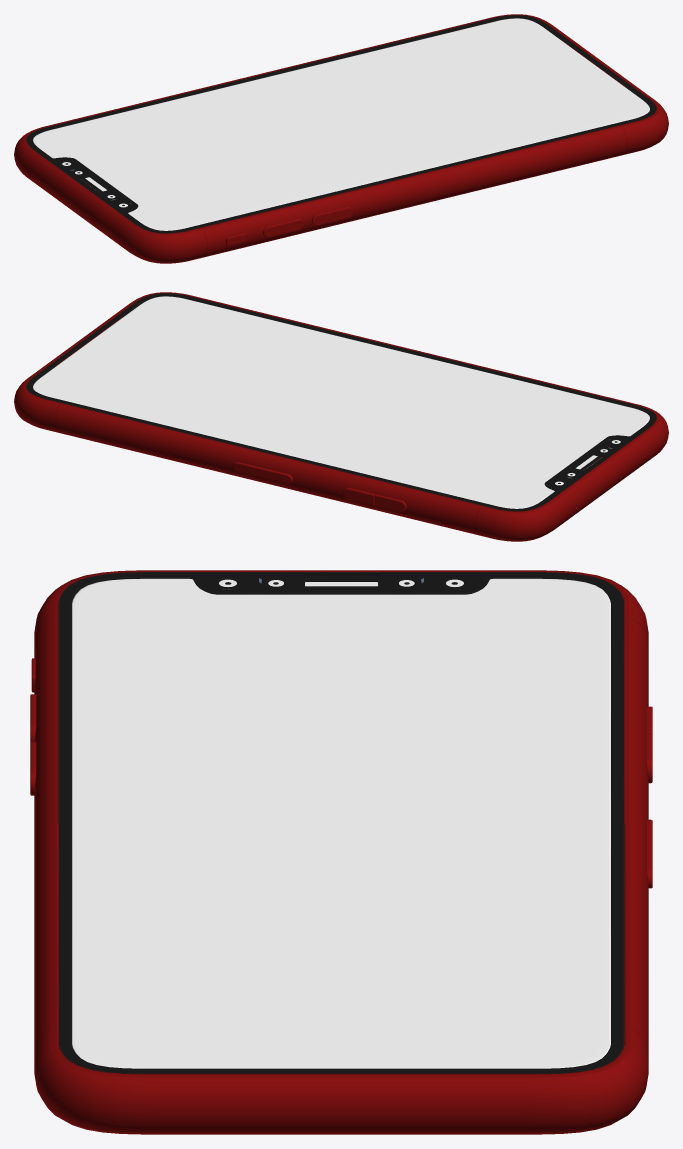
Rendered from iphoneX_v3-anim.glb.
The picture shows the model from 3 angles, top to bottom: view 1: azimuth 30°, elevation 25°; view 2: azimuth 150°, elevation 25°; view 3: azimuth 270°, elevation 25°; orthographic projection. The views are drawn at different scales.
Visible parts, largest first — view 1: iphone 10.002; view 2: iphone 10.002; view 3: iphone 10.002.
Boxes of the visible parts, bbox=[...] form: iphone 10.002: bbox=[14, 14, 668, 263]; iphone 10.002: bbox=[14, 292, 668, 541]; iphone 10.002: bbox=[30, 570, 652, 1134].
Bounding box in the file's own units: 1.31 × 0.0802 × 0.6589.
Materials: 2 (1 with a texture image).
